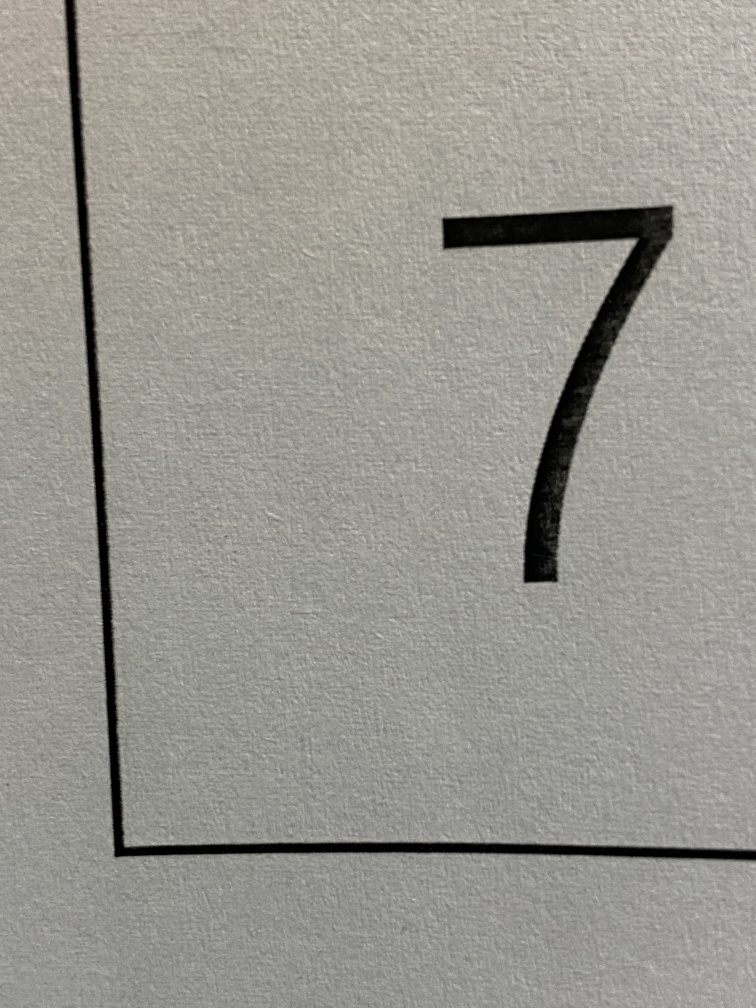seven: (367, 146, 750, 650)
